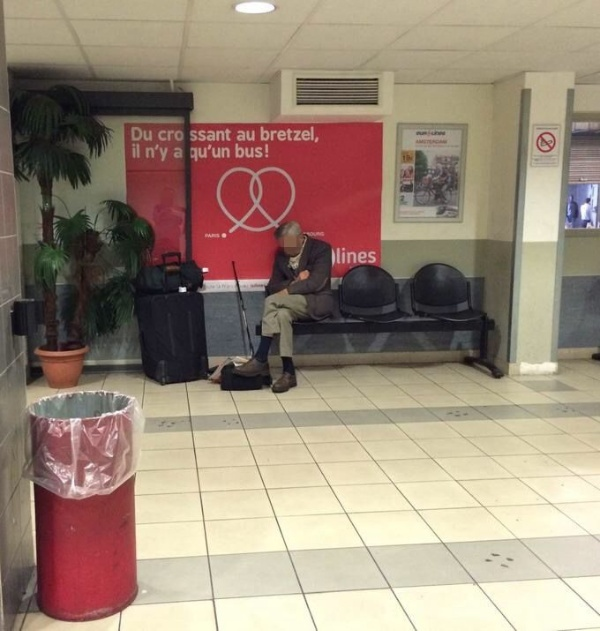text: (337, 246, 352, 268), (353, 246, 368, 268), (193, 143, 208, 164), (209, 143, 224, 164), (145, 143, 160, 164), (273, 127, 288, 144), (289, 127, 304, 144), (241, 143, 256, 159), (305, 127, 319, 144), (193, 129, 208, 143), (209, 129, 224, 143), (131, 127, 144, 143), (545, 154, 559, 168), (161, 130, 176, 143), (257, 143, 269, 159), (132, 143, 144, 159), (161, 143, 170, 164), (261, 127, 272, 144), (241, 131, 256, 143), (533, 154, 544, 168), (369, 246, 376, 268), (145, 127, 153, 143), (225, 143, 231, 164), (331, 246, 336, 268), (209, 284, 224, 291), (225, 284, 240, 291), (241, 284, 256, 291), (305, 232, 320, 239), (177, 130, 185, 143), (225, 129, 232, 143), (257, 284, 270, 291), (417, 131, 432, 137), (209, 233, 224, 239), (433, 131, 447, 137), (433, 140, 449, 145), (235, 143, 240, 159), (417, 140, 432, 145), (177, 147, 183, 159), (401, 211, 416, 215), (545, 128, 559, 131), (202, 284, 208, 291), (190, 143, 192, 164), (173, 147, 176, 159), (237, 131, 240, 143), (417, 211, 424, 215), (190, 129, 192, 143), (158, 130, 160, 143), (536, 128, 544, 131), (204, 233, 208, 239), (321, 232, 324, 239), (225, 233, 227, 239), (303, 232, 304, 239)
